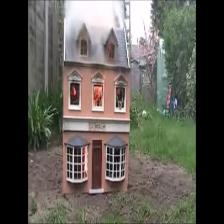fire: (91, 84, 104, 107)
